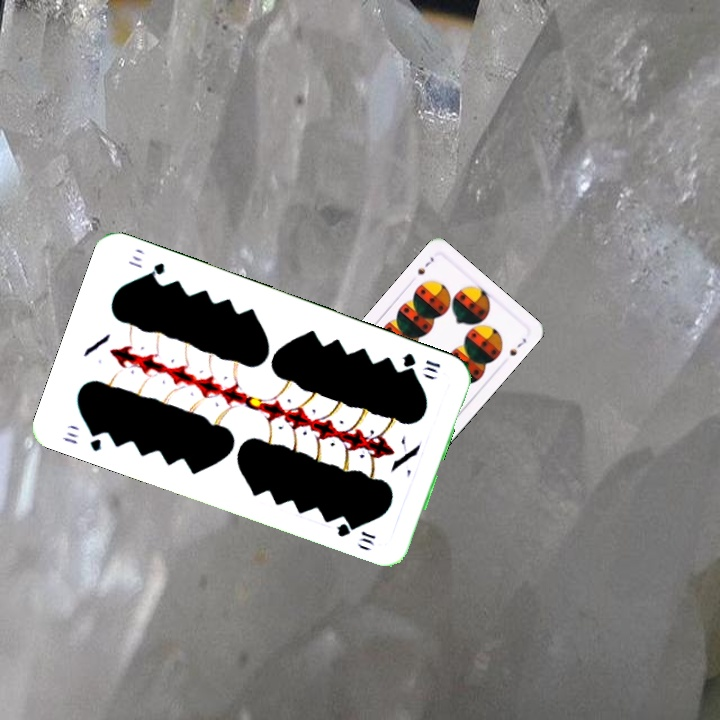G10: (58, 425, 105, 454), (398, 349, 443, 375)
S7: (413, 253, 437, 277)
